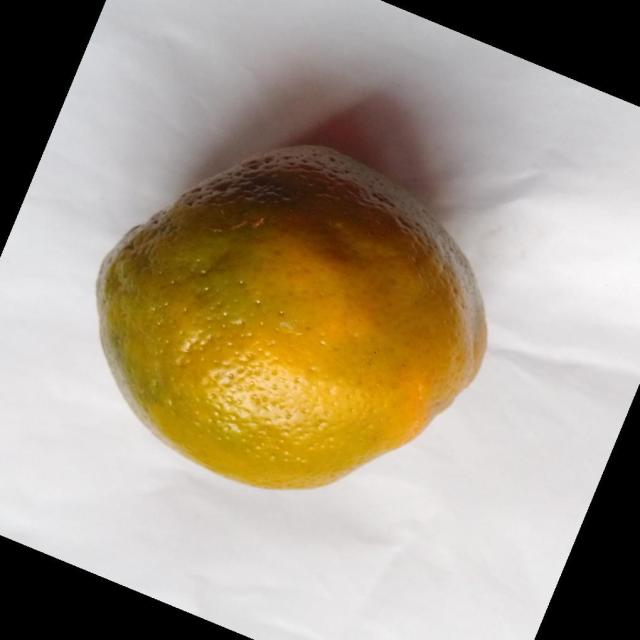fresh orange: (95, 142, 488, 492)
